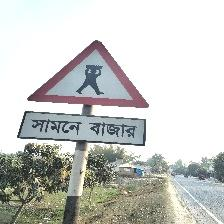Market-in-front: (22, 40, 150, 148)
